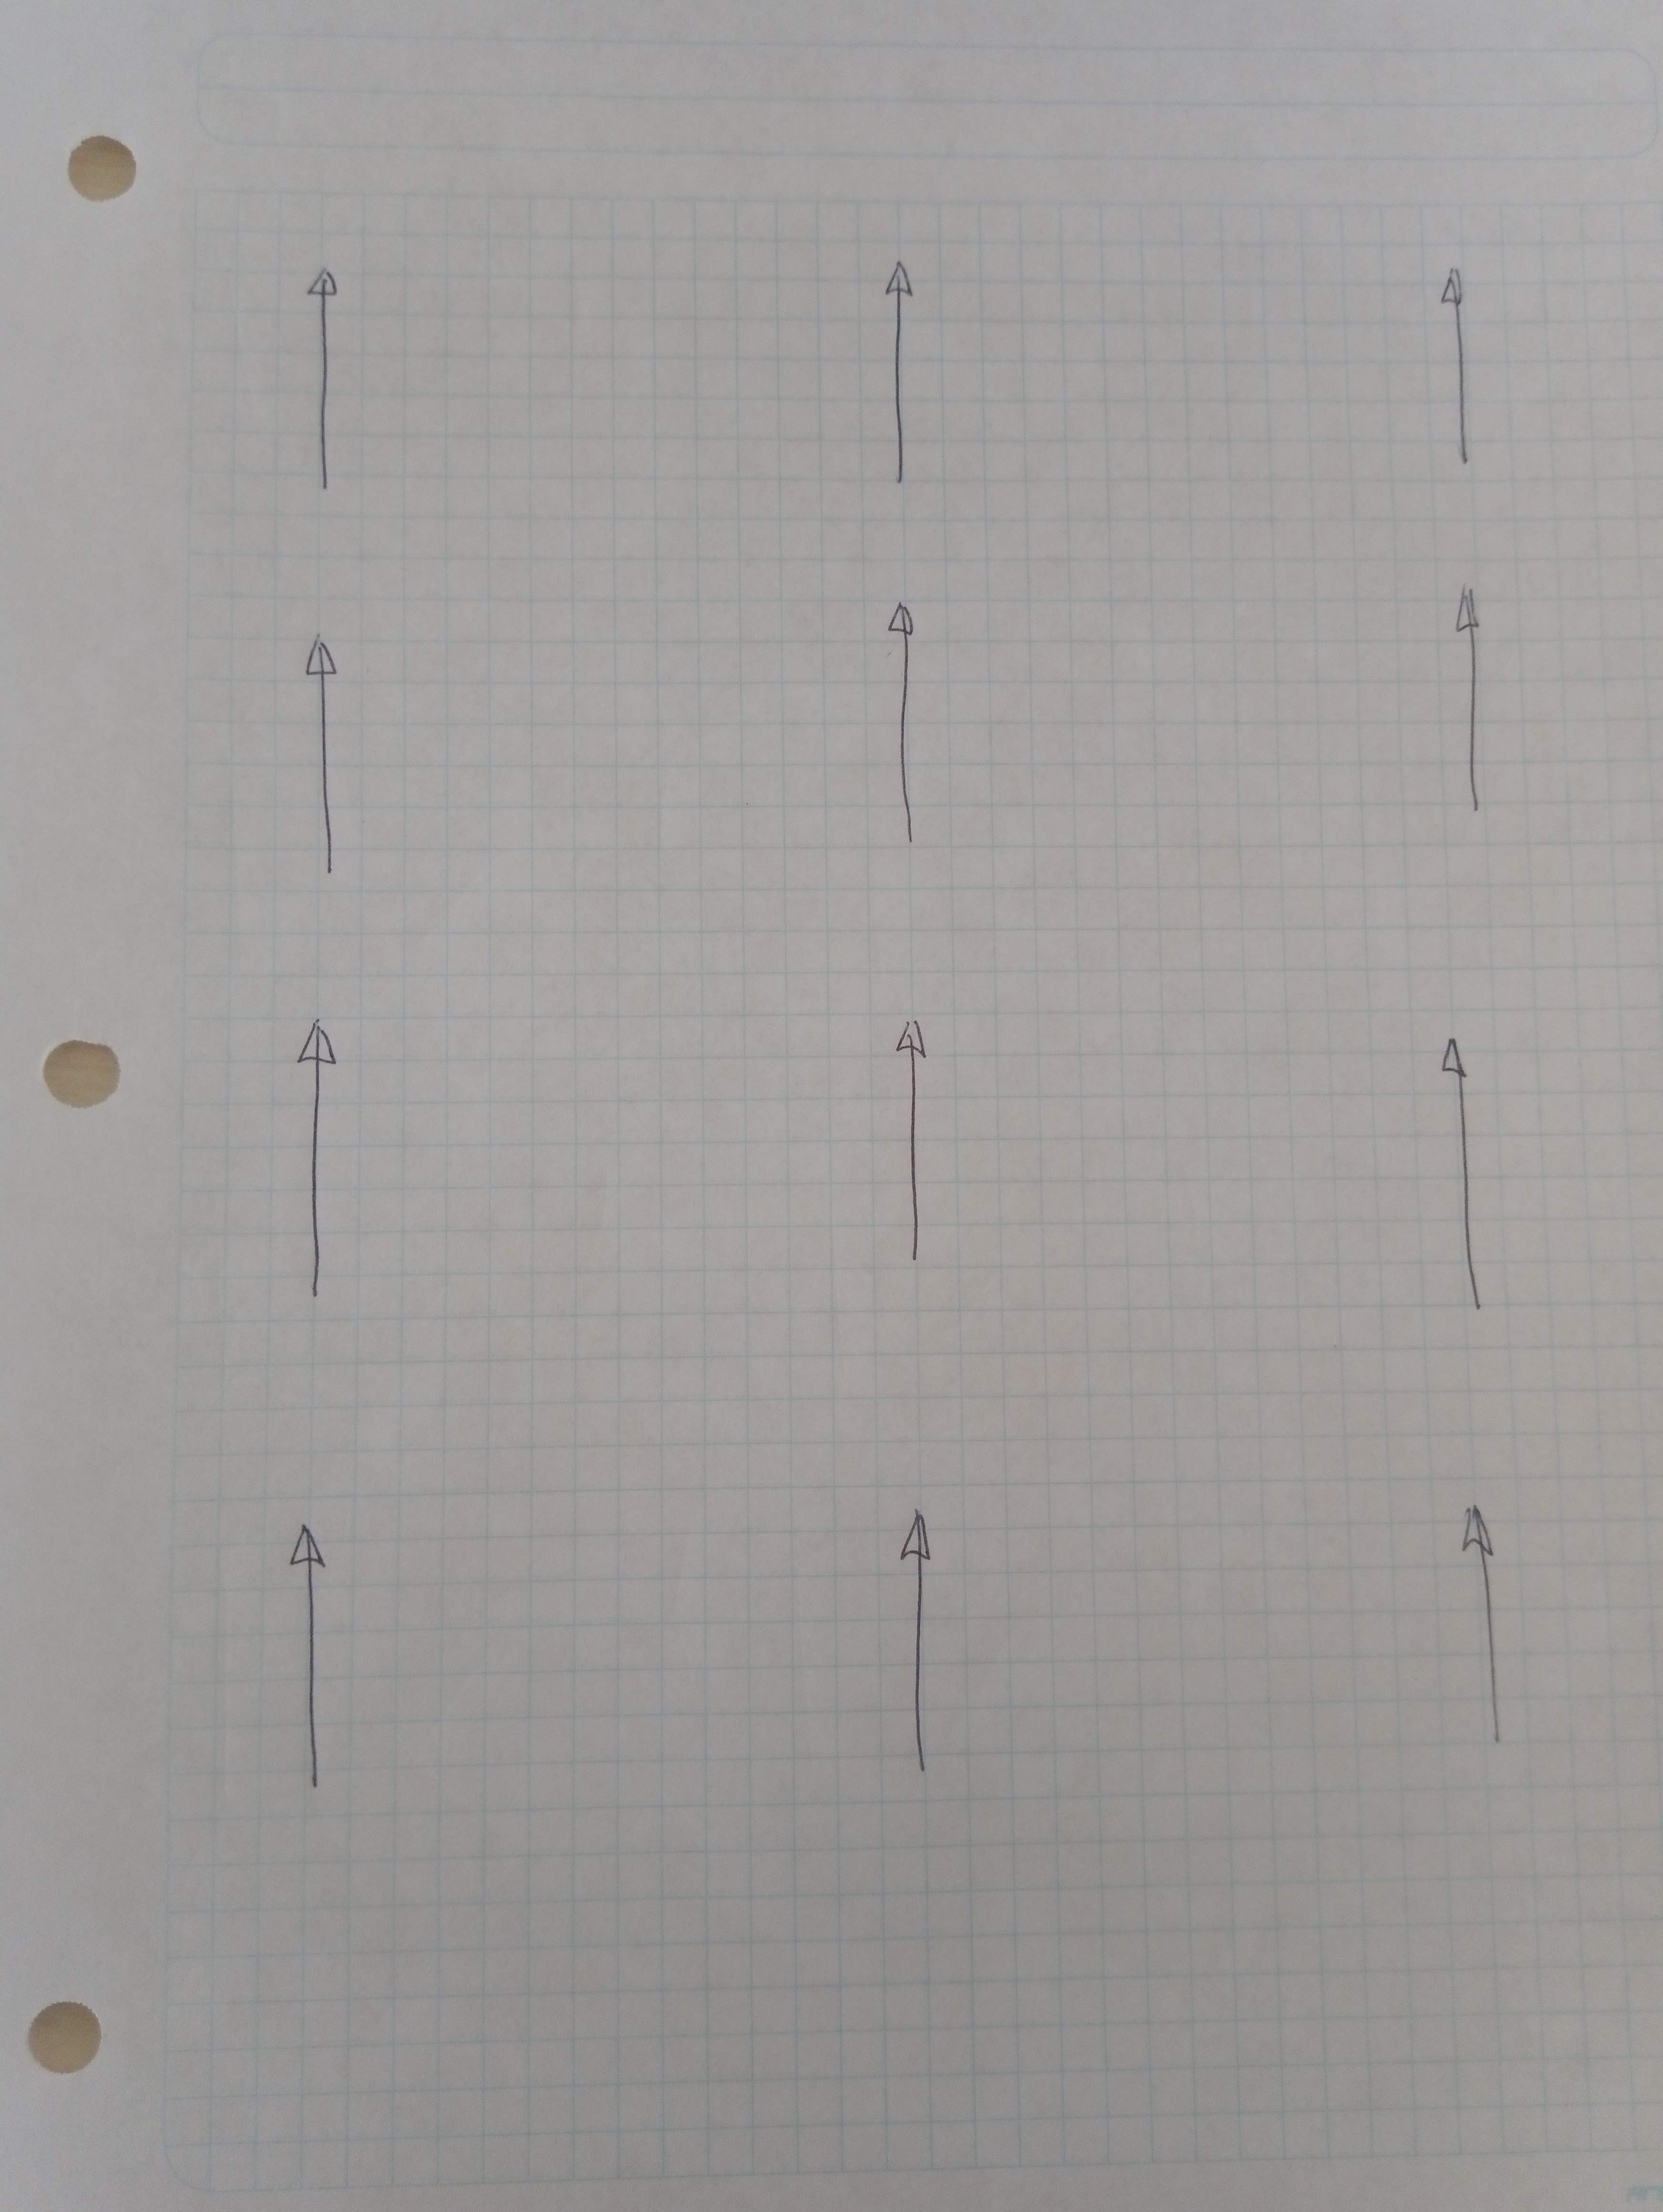arrow_line_up: (1410, 1487, 1542, 1767), (879, 1507, 983, 1805), (285, 620, 393, 896), (273, 1531, 370, 1805), (1432, 1030, 1518, 1322), (274, 1011, 358, 1294), (870, 597, 959, 861), (288, 257, 374, 512), (1436, 264, 1525, 508), (872, 1000, 949, 1283), (1438, 588, 1502, 803), (879, 257, 929, 484)
